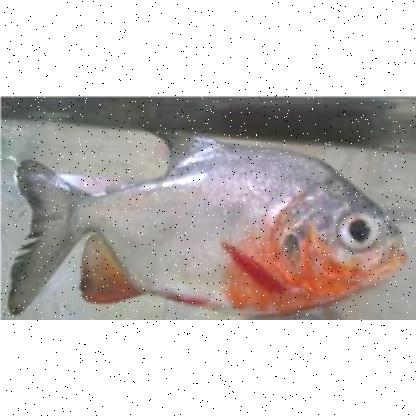ikan-pacu: (22, 138, 404, 312)
